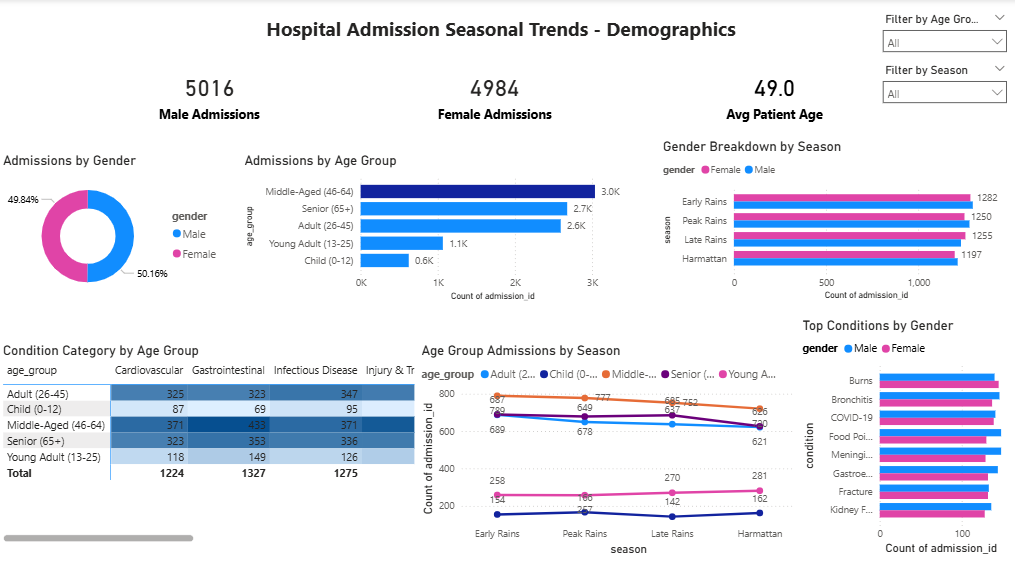

The page's visual inventory and layout, read from the dashboard file:
{"tool":"powerbi","page":{"name":"DEMOGRAPHICS","canvas":[1280,720],"ordinal":1},"visuals":[{"type":"textbox","box":[96,16,1072,64],"z":0},{"type":"card","fields":{"Values":["hospital_admissions_dataset.Male Admissions"]},"box":[128,64,272,112],"z":1000},{"type":"card","fields":{"Values":["hospital_admissions_dataset.Female Admissions"]},"box":[512,64,224,112],"z":2000},{"type":"card","fields":{"Values":["Avg(hospital_admissions_dataset.age)"]},"box":[880,64,192,112],"z":3000},{"type":"donutChart","title":"Admissions by Gender","fields":{"Category":["hospital_admissions_dataset.gender"],"Y":["Count(hospital_admissions_dataset.admission_id)"]},"box":[0,192,288,192],"z":4000},{"type":"clusteredBarChart","title":"Admissions by Age Group","fields":{"Category":["hospital_admissions_dataset.age_group"],"Y":["Count(hospital_admissions_dataset.admission_id)"]},"box":[304,192,496,192],"z":5000},{"type":"clusteredBarChart","title":"Gender Breakdown by Season","fields":{"Category":["hospital_admissions_dataset.season"],"Y":["Count(hospital_admissions_dataset.admission_id)"],"Series":["hospital_admissions_dataset.gender"]},"box":[832,176,448,208],"z":6000},{"type":"lineChart","title":"Age Group Admissions by Season","fields":{"Category":["hospital_admissions_dataset.season"],"Y":["CountNonNull(hospital_admissions_dataset.admission_id)"],"Series":["hospital_admissions_dataset.age_group"]},"box":[528,432,480,272],"z":7000},{"type":"pivotTable","title":"Condition Category by Age Group","fields":{"Rows":["hospital_admissions_dataset.age_group"],"Columns":["hospital_admissions_dataset.condition_category"],"Values":["CountNonNull(hospital_admissions_dataset.admission_id)"]},"box":[0,432,528,256],"z":8000},{"type":"clusteredBarChart","title":"Top Conditions by Gender","fields":{"Series":["hospital_admissions_dataset.gender"],"Category":["hospital_admissions_dataset.condition"],"Y":["CountNonNull(hospital_admissions_dataset.admission_id)"]},"box":[1008,400,272,304],"z":9000},{"type":"slicer","fields":{"Values":["hospital_admissions_dataset.age_group"]},"box":[1104,10.9,176,64],"z":10000},{"type":"slicer","fields":{"Values":["hospital_admissions_dataset.season"]},"box":[1104,74.9,176,80],"z":11000}]}

Visuals, with their boxes in screenshot pixels (x1, y1, x2, y2), scaled from the page's 1280x720 canvas onto the 1015x569 screenshot:
textbox: <box>76,13,926,63</box>
card - hospital_admissions_dataset.Male Admissions: <box>102,51,317,139</box>
card - hospital_admissions_dataset.Female Admissions: <box>406,51,584,139</box>
card - Avg(hospital_admissions_dataset.age): <box>698,51,850,139</box>
"Admissions by Gender" donutChart: <box>0,152,228,303</box>
"Admissions by Age Group" clusteredBarChart: <box>241,152,634,303</box>
"Gender Breakdown by Season" clusteredBarChart: <box>660,139,1014,303</box>
"Age Group Admissions by Season" lineChart: <box>419,341,799,556</box>
"Condition Category by Age Group" pivotTable: <box>0,341,419,544</box>
"Top Conditions by Gender" clusteredBarChart: <box>799,316,1014,556</box>
slicer - hospital_admissions_dataset.age_group: <box>875,9,1014,59</box>
slicer - hospital_admissions_dataset.season: <box>875,59,1014,122</box>
